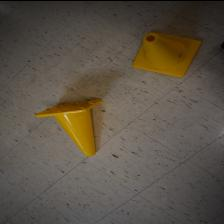cone: (35, 98, 102, 156), (130, 31, 202, 76)
